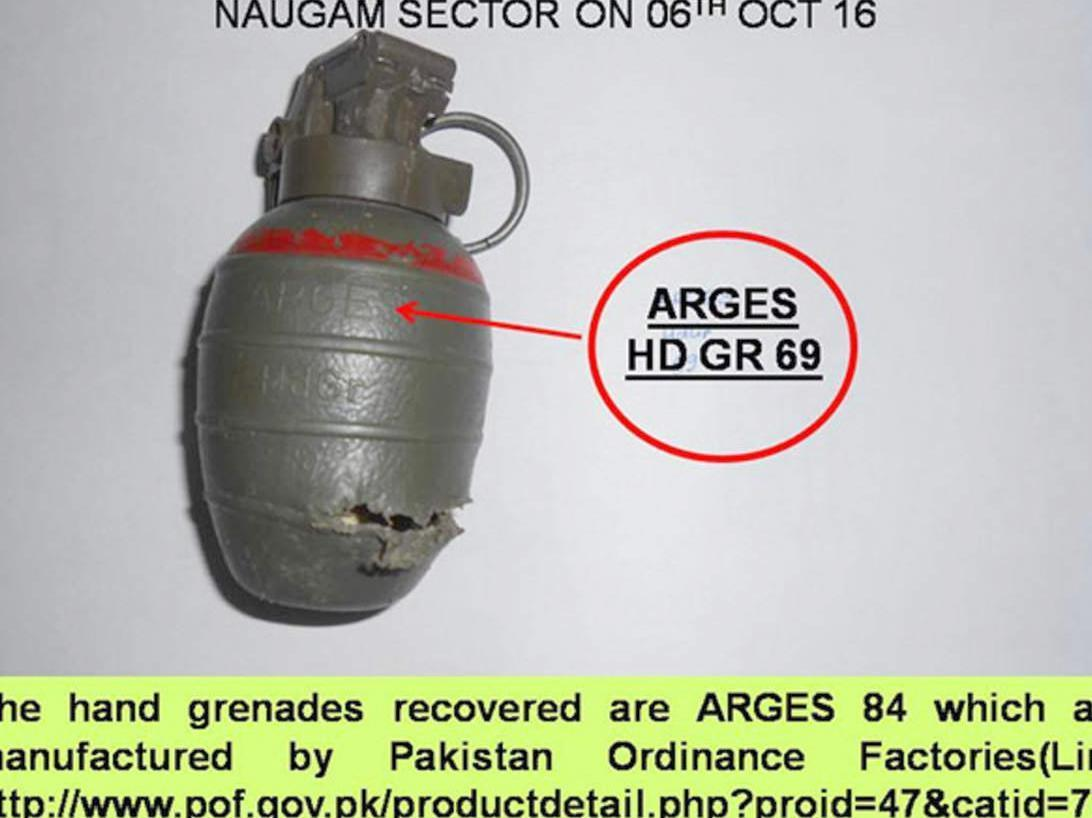Grenade: (192, 33, 533, 614)
